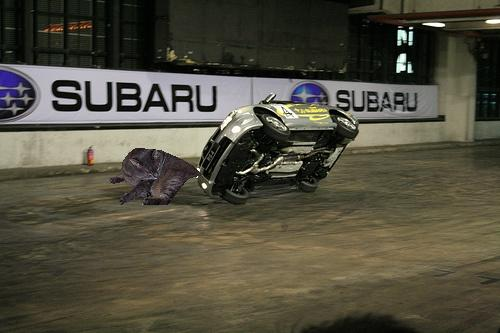tampered: (110, 149, 201, 205)
